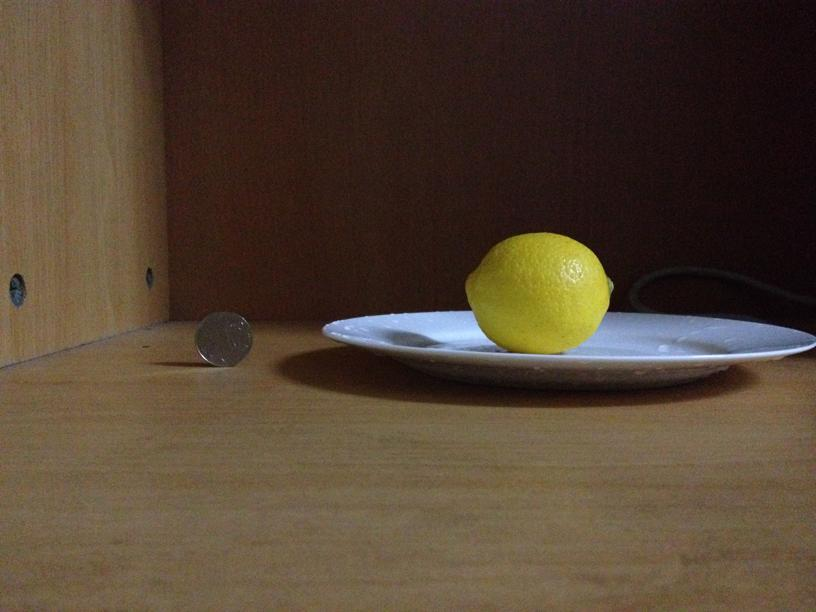coin: (194, 307, 252, 366)
lemon: (462, 230, 614, 353)
